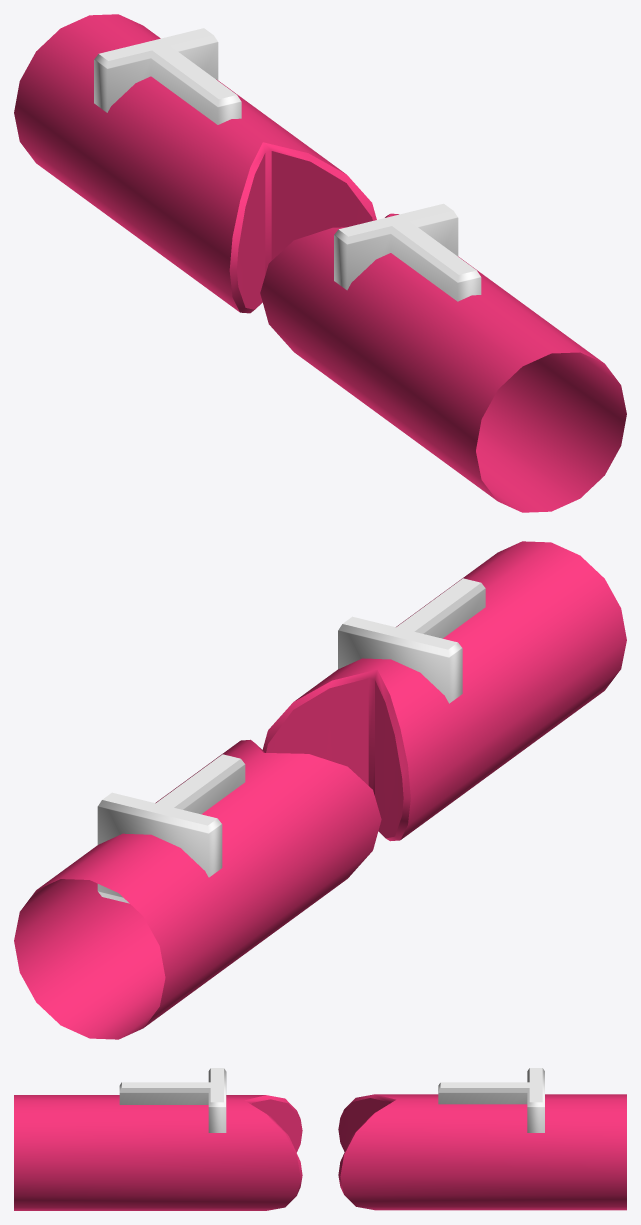
3 renders of one model, top to bottom at view 1: azimuth 30°, elevation 25°; view 2: azimuth 150°, elevation 25°; view 3: azimuth 270°, elevation 25°, orthographic. The views are drawn at different scales.
Visible parts, largest first — view 1: Nucleotide_T_Rev.001, Nucleotide_T.001; view 2: Nucleotide_T.001, Nucleotide_T_Rev.001; view 3: Nucleotide_T.001, Nucleotide_T_Rev.001.
Boxes of the visible parts, x1=… form: Nucleotide_T_Rev.001: x1=260, y1=203, x2=626, y2=512; Nucleotide_T.001: x1=14, y1=14, x2=376, y2=313; Nucleotide_T.001: x1=14, y1=739, x2=381, y2=1039; Nucleotide_T_Rev.001: x1=262, y1=541, x2=626, y2=841; Nucleotide_T.001: x1=338, y1=1068, x2=626, y2=1210; Nucleotide_T_Rev.001: x1=14, y1=1068, x2=302, y2=1210.
Bounding box in the file's own units: 1.64 × 1.86 × 8.63.
